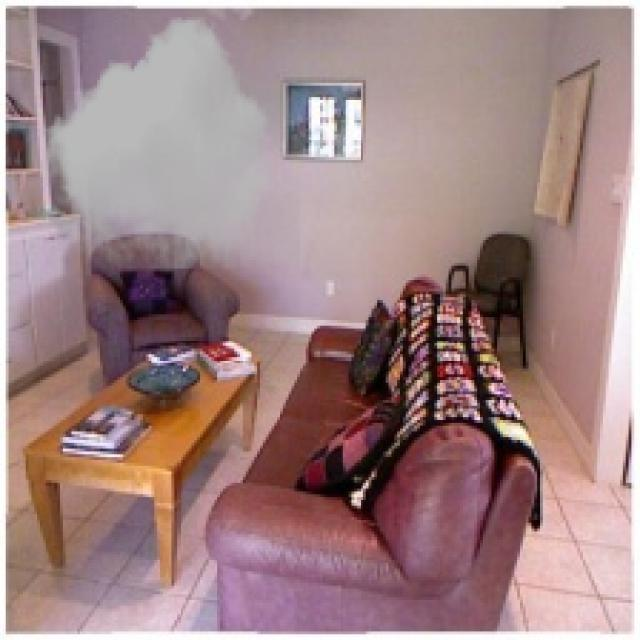Smoke: (40, 17, 300, 269)
